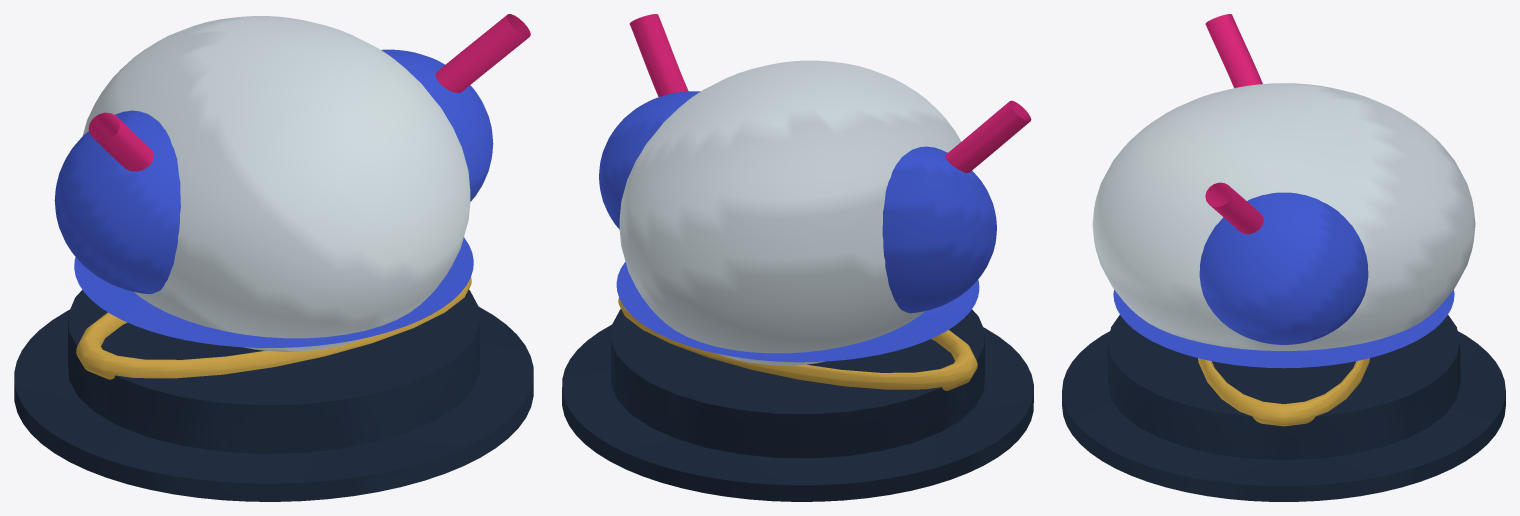
The model's file is 0190_人体图鉴_骨骼.glb.
3 views of the same model, side by side, from view 1: azimuth 30°, elevation 25°; view 2: azimuth 150°, elevation 25°; view 3: azimuth 270°, elevation 25° (orthographic). The views are drawn at different scales.
Parts seen in each view (by area): view 1: card_0190; view 2: card_0190; view 3: card_0190.
Boxes of the visible parts, x1,y1,x2,y2 form: card_0190: [14, 14, 533, 501]; card_0190: [562, 14, 1033, 501]; card_0190: [1062, 14, 1505, 501].
Size of the model in its own units: 1.34 by 1 by 1.31.
